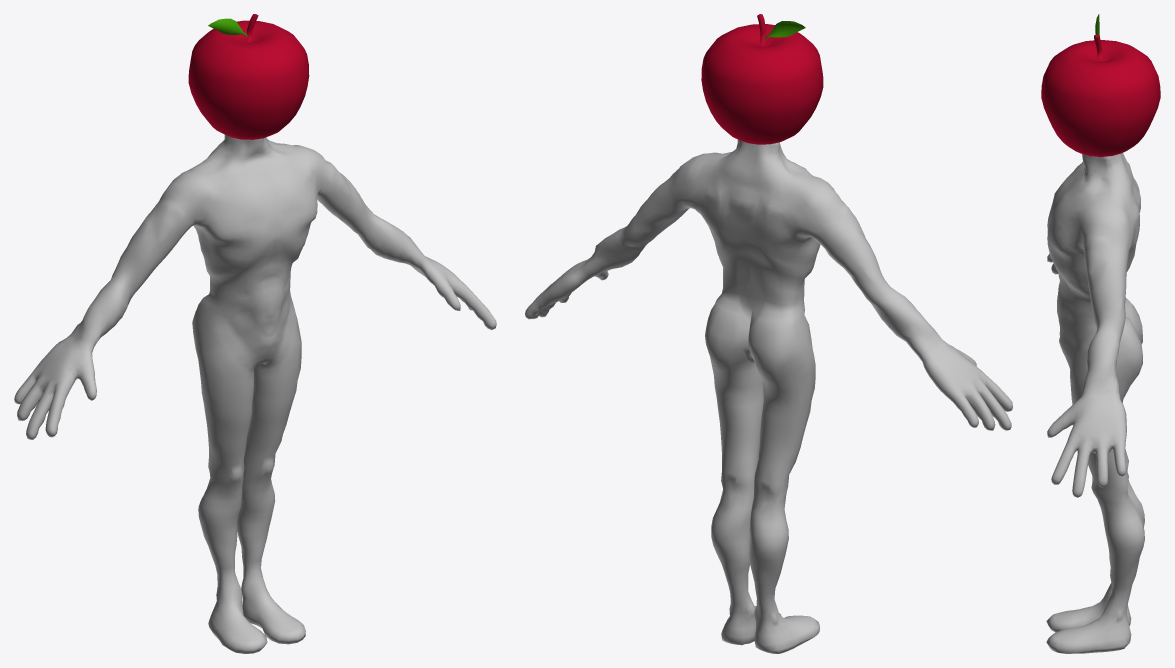
The model's file is appleHuman_model.ver.fbx.
3 renders of one model, left to right at view 1: azimuth 30°, elevation 25°; view 2: azimuth 150°, elevation 25°; view 3: azimuth 270°, elevation 25°, orthographic. The views are drawn at different scales.
Visible parts, largest first — view 1: body_mesh, apple_mesh; view 2: body_mesh, apple_mesh; view 3: body_mesh, apple_mesh.
Boxes of the visible parts, bbox=[...] form: body_mesh: bbox=[14, 135, 496, 653]; apple_mesh: bbox=[188, 14, 309, 139]; body_mesh: bbox=[525, 139, 1012, 653]; apple_mesh: bbox=[701, 14, 823, 144]; body_mesh: bbox=[1046, 153, 1144, 653]; apple_mesh: bbox=[1041, 14, 1160, 156].
Bounding box in the file's own units: 131 × 166 × 29.61.
